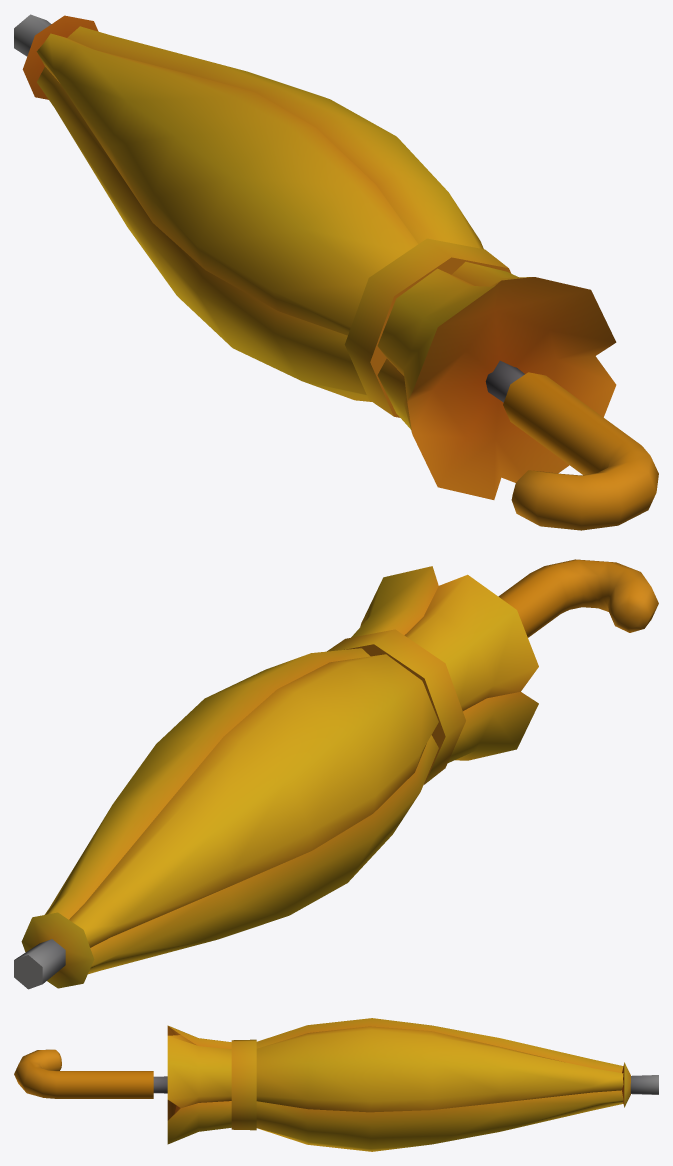
Rendered from Melee_Umbrella.fbx.
The picture shows the model from 3 angles, top to bottom: view 1: azimuth 30°, elevation 25°; view 2: azimuth 150°, elevation 25°; view 3: azimuth 270°, elevation 25°; orthographic projection. The views are drawn at different scales.
Parts seen in each view (by area): view 1: Melee_Umbrella; view 2: Melee_Umbrella; view 3: Melee_Umbrella.
Part boxes in pixels (x1,y1,x2,y2): Melee_Umbrella: [14, 14, 658, 530]; Melee_Umbrella: [14, 559, 658, 989]; Melee_Umbrella: [14, 1018, 658, 1151].
Bounding box in the file's own units: 0.2268 × 0.2238 × 1.07.
